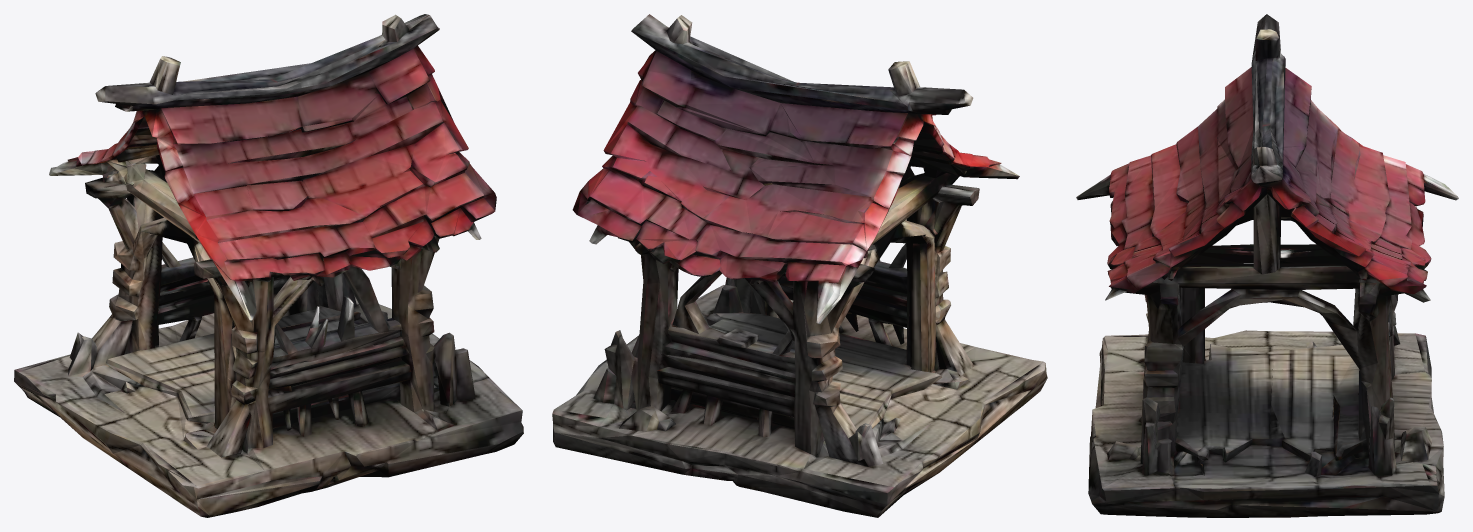
The model's file is orc_hut_ruin_01.glb.
3 renders of one model, left to right at view 1: azimuth 30°, elevation 25°; view 2: azimuth 150°, elevation 25°; view 3: azimuth 270°, elevation 25°, orthographic. The views are drawn at different scales.
Parts seen in each view (by area): view 1: geometry_0; view 2: geometry_0; view 3: geometry_0.
Boxes of the visible parts, x1,y1,x2,y2 form: geometry_0: [14, 14, 523, 517]; geometry_0: [552, 14, 1047, 517]; geometry_0: [1076, 14, 1458, 517].
Bounding box in the file's own units: 0.952 × 0.9983 × 0.9511.
Materials: 1 (1 with a texture image).
